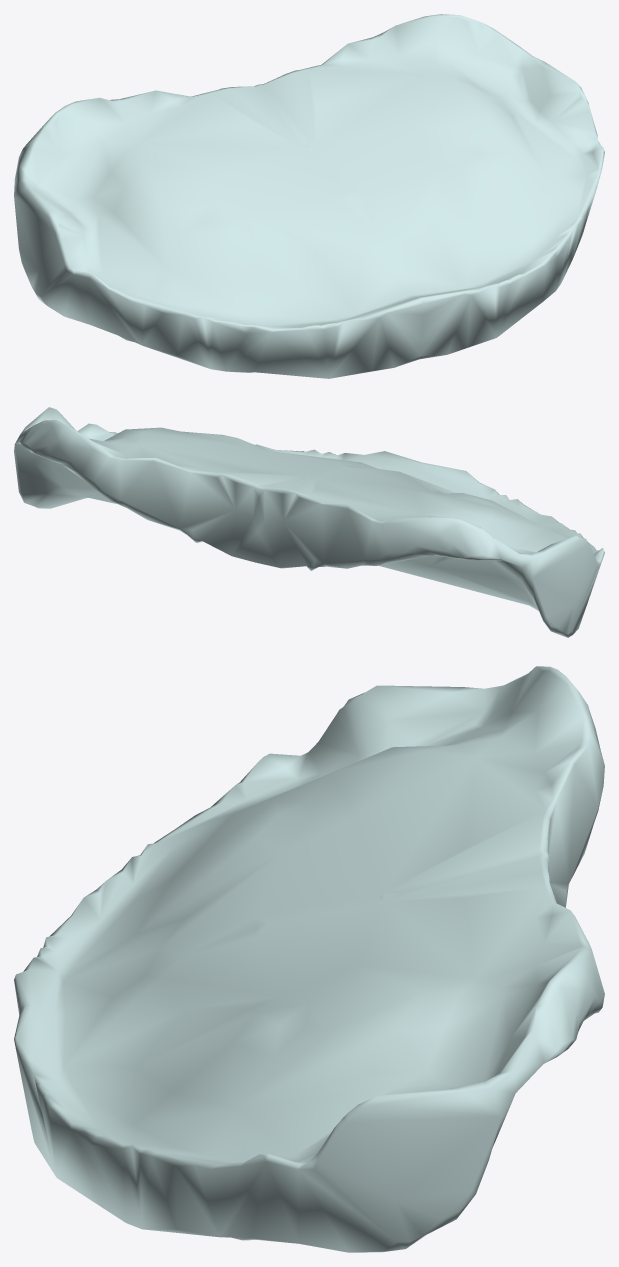
The model's file is Intervertebral_disc_T1-T2_Generated_Mesh_From_X3D.086.glb.
3 renders of one model, top to bottom at view 1: azimuth 30°, elevation 25°; view 2: azimuth 150°, elevation 25°; view 3: azimuth 270°, elevation 25°, orthographic. The views are drawn at different scales.
Parts seen in each view (by area): view 1: Intervertebral_disc_T1-T2_Generated_Mesh_From_X3D.086; view 2: Intervertebral_disc_T1-T2_Generated_Mesh_From_X3D.086; view 3: Intervertebral_disc_T1-T2_Generated_Mesh_From_X3D.086.
Boxes of the visible parts, <box> form: Intervertebral_disc_T1-T2_Generated_Mesh_From_X3D.086: <box>14,14,604,378</box>; Intervertebral_disc_T1-T2_Generated_Mesh_From_X3D.086: <box>14,407,604,637</box>; Intervertebral_disc_T1-T2_Generated_Mesh_From_X3D.086: <box>14,666,604,1252</box>.
Bounding box in the file's own units: 0.0336 × 0.0109 × 0.0201.
